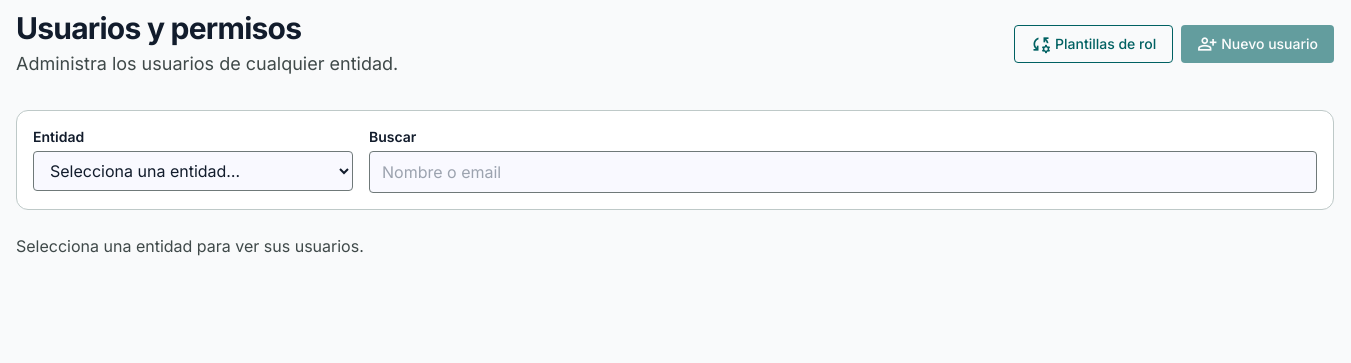
Test case: UsersAdminPage › Super Admin: exige elegir tenant antes de listar
Expected: the text "Selecciona una entidad para ver sus usuarios." is shown, 16,236 -> 364,256
Select "Alcaldía A" in the dropdown labelled "Entidad" at (193, 171), box 33,151 -> 353,191
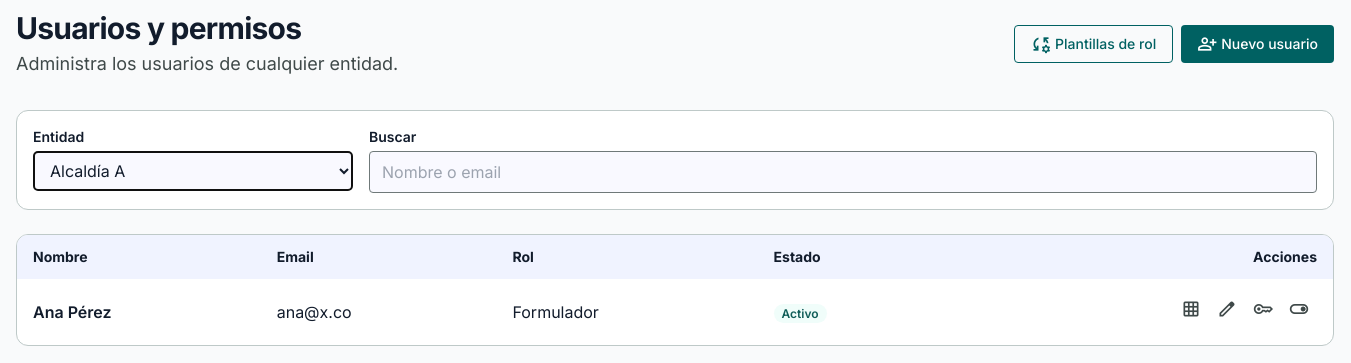
Expected: the text "Ana Pérez" is shown, 17,279 -> 261,345
